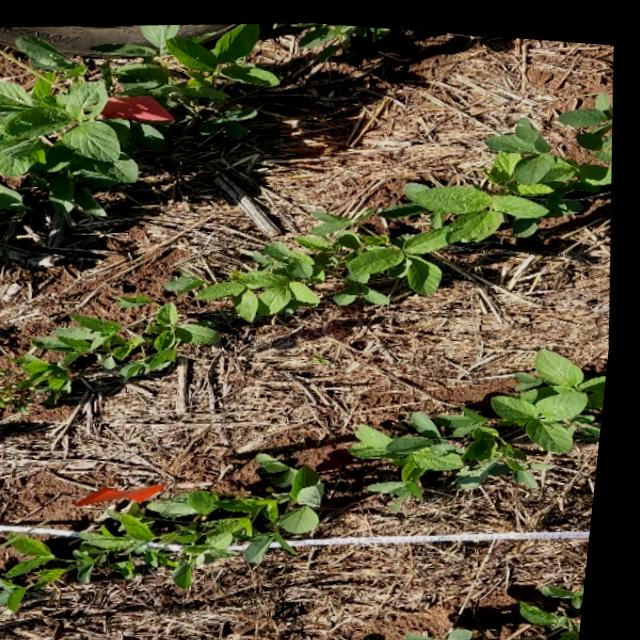soy_plant: (169, 84, 614, 317), (0, 20, 279, 213), (0, 448, 332, 608), (358, 341, 613, 494), (0, 299, 224, 413), (417, 576, 596, 640)
